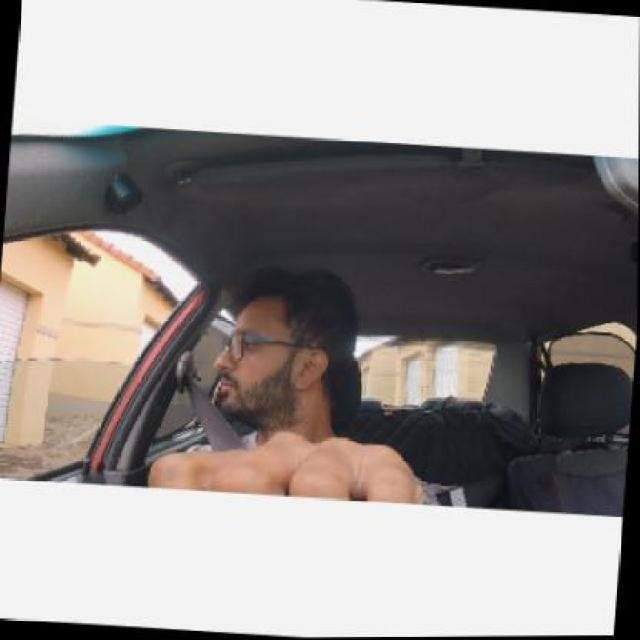LeftRight: (207, 267, 360, 433)
